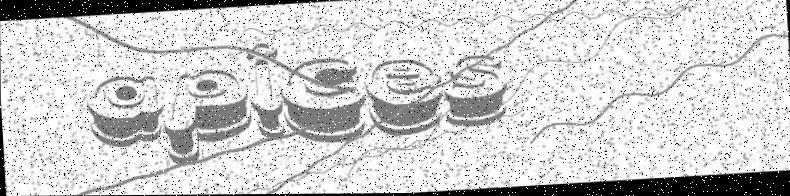a: (84, 73, 164, 150)
c: (276, 56, 366, 146)
e: (362, 56, 444, 138)
i: (243, 40, 288, 143)
p: (158, 66, 254, 167)
s: (438, 54, 508, 130)
